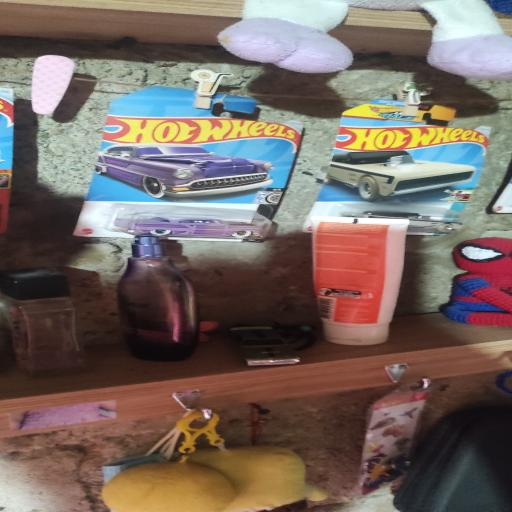Carrito: (229, 327, 307, 366)
